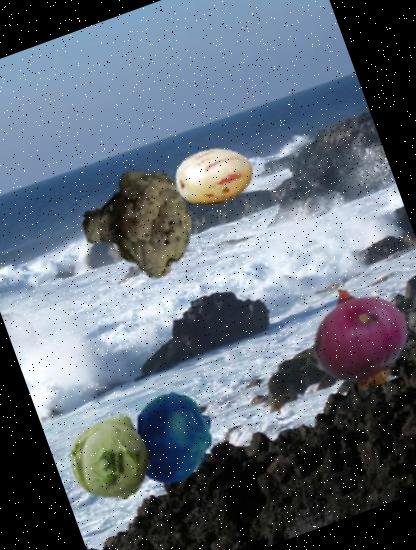Cauliflower: (64, 152, 213, 302)
Huckleberry: (115, 378, 233, 498)
Kohlrabi: (52, 396, 168, 514)
Onion: (293, 269, 416, 402)
Pepino: (164, 126, 264, 226)
